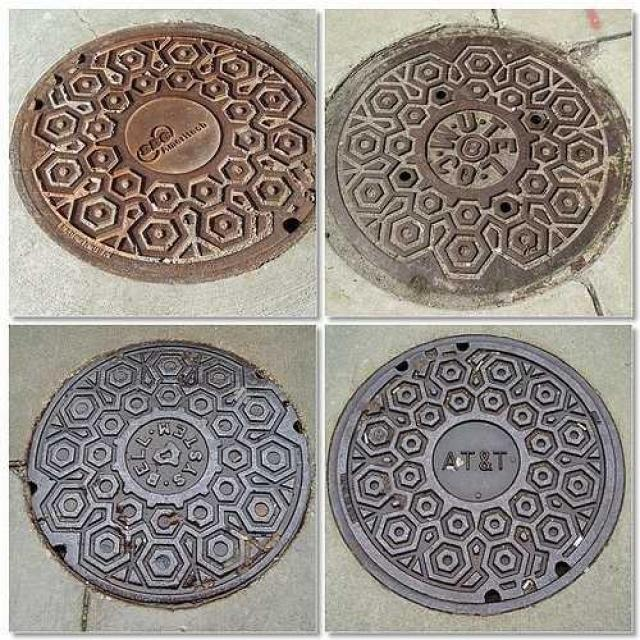manhole: (329, 22, 634, 311), (328, 335, 628, 620), (12, 24, 316, 287), (23, 340, 311, 611)
